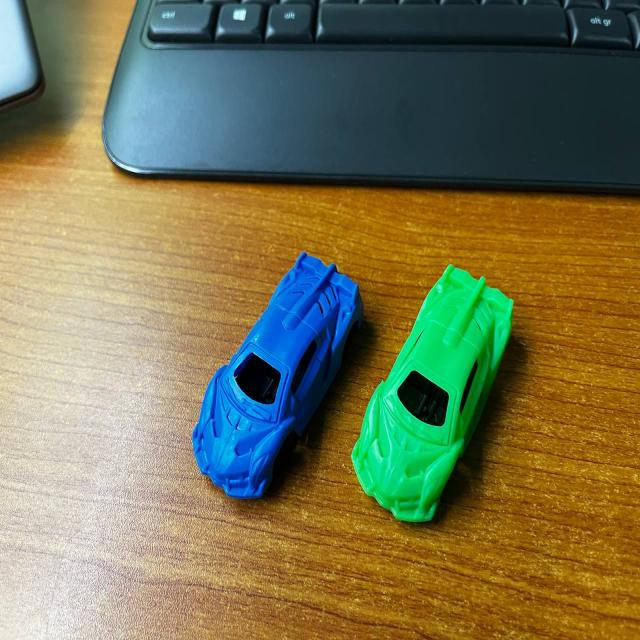car: (162, 221, 364, 529), (350, 257, 530, 567)
